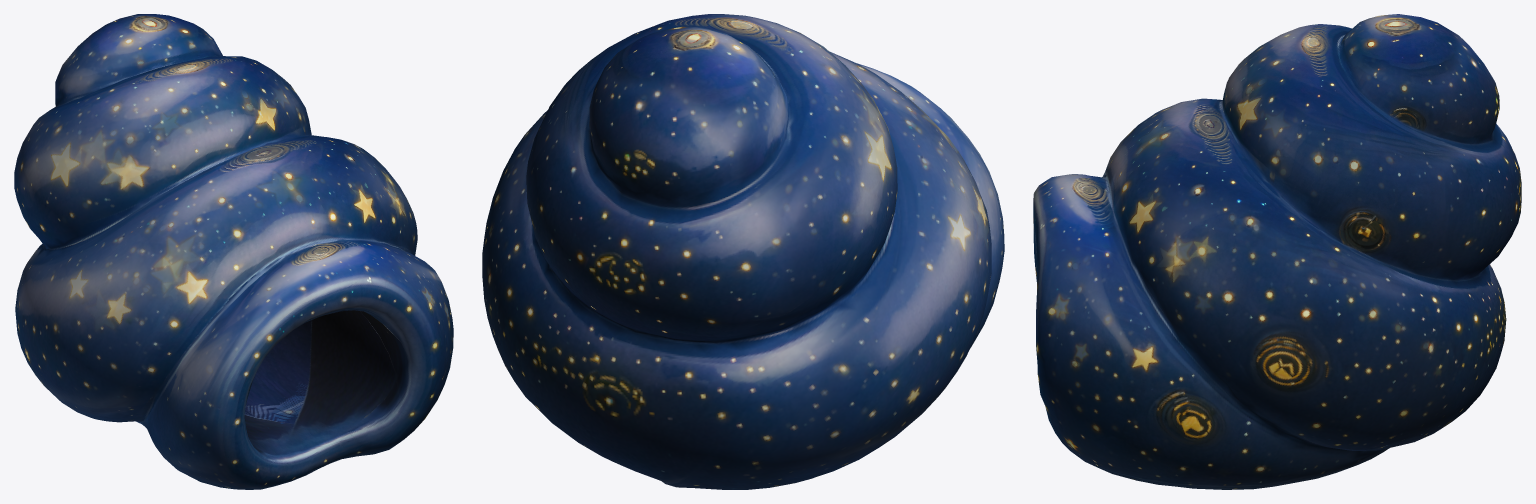
Rendered from crab_starshell.glb.
3 renders of one model, left to right at view 1: azimuth 30°, elevation 25°; view 2: azimuth 150°, elevation 25°; view 3: azimuth 270°, elevation 25°, orthographic. The views are drawn at different scales.
Parts seen in each view (by area): view 1: texture_mapping; view 2: texture_mapping; view 3: texture_mapping.
Boxes of the visible parts, left/top/right/bottom form: texture_mapping: left=14, top=14, right=453, bottom=489; texture_mapping: left=482, top=14, right=1004, bottom=489; texture_mapping: left=1033, top=14, right=1521, bottom=489.
Size of the model in its own units: 0.9321 by 0.9084 by 1.
1 material, 1 textured.
